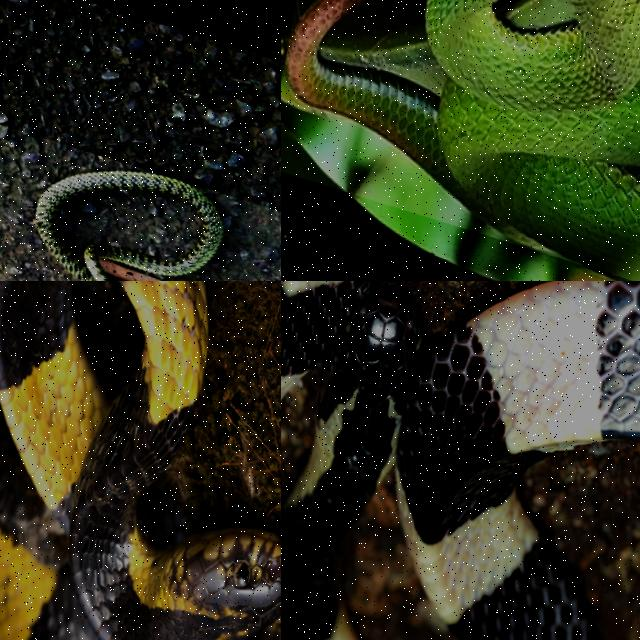Bungarus fasciatus: (281, 281, 639, 639), (0, 281, 280, 639)
Chrysopelea ornata: (36, 170, 223, 280)
Trimeresurus macrops: (286, 0, 639, 273)
